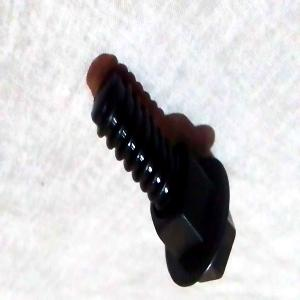parafuso: (82, 68, 236, 288)
